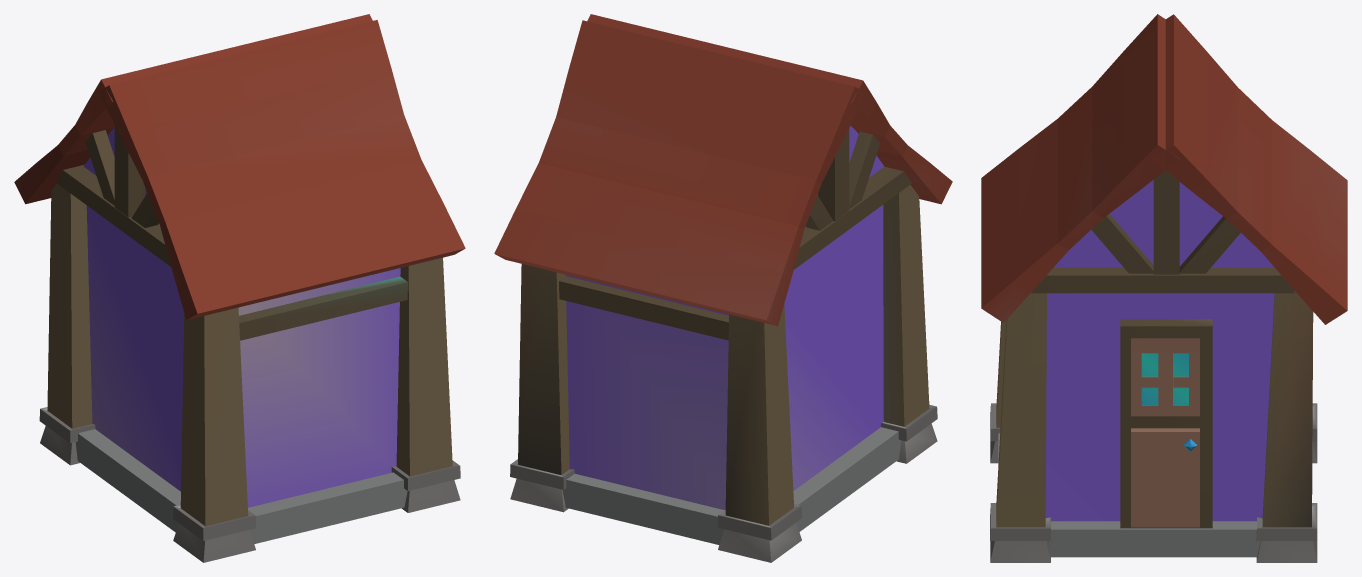
File: CasaRoxa.fbx
The picture shows the model from 3 angles, left to right: view 1: azimuth 30°, elevation 25°; view 2: azimuth 150°, elevation 25°; view 3: azimuth 270°, elevation 25°; orthographic projection.
Parts seen in each view (by area): view 1: Casa; view 2: Casa; view 3: Casa.
Part boxes in pixels (bbox=[...]): Casa: bbox=[14, 14, 465, 562]; Casa: bbox=[494, 14, 952, 562]; Casa: bbox=[981, 14, 1347, 562].
Size of the model in its own units: 565 by 845 by 669.
